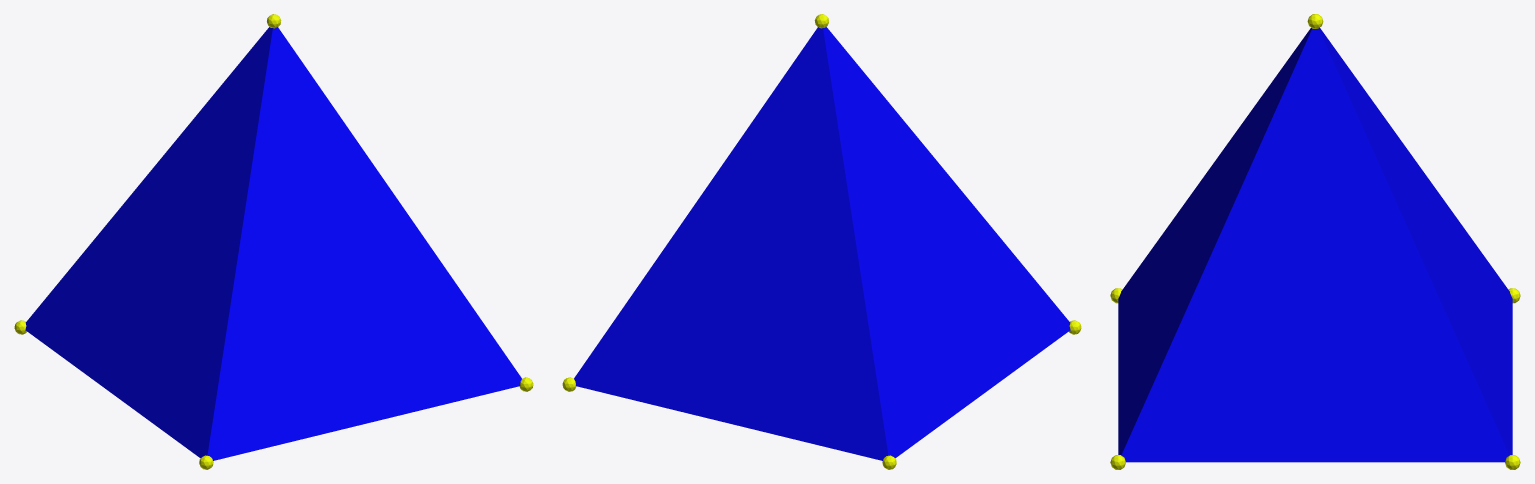
The model's file is piramide_vertices.glb.
3 renders of one model, left to right at view 1: azimuth 30°, elevation 25°; view 2: azimuth 150°, elevation 25°; view 3: azimuth 270°, elevation 25°, orthographic. The views are drawn at different scales.
Parts seen in each view (by area): view 1: Pyramid002, Pyramid001; view 2: Pyramid002, Pyramid001; view 3: Pyramid002, Pyramid001.
Part boxes in pixels (bbox=[...]): Pyramid002: bbox=[25, 27, 521, 460]; Pyramid001: bbox=[14, 14, 533, 469]; Pyramid002: bbox=[574, 27, 1070, 460]; Pyramid001: bbox=[562, 14, 1081, 469]; Pyramid002: bbox=[1118, 28, 1512, 462]; Pyramid001: bbox=[1110, 14, 1520, 469].
Size of the model in its own units: 0.6592 by 0.6604 by 0.6604.
